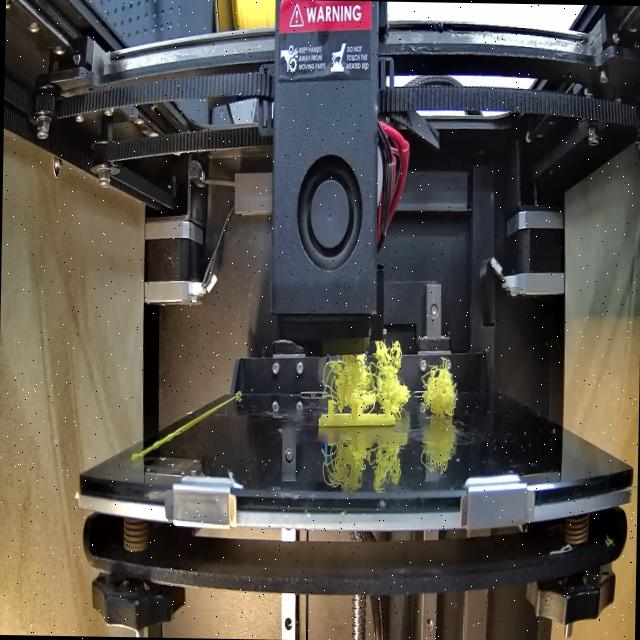spaghetti: (320, 336, 409, 412), (423, 366, 465, 420)
